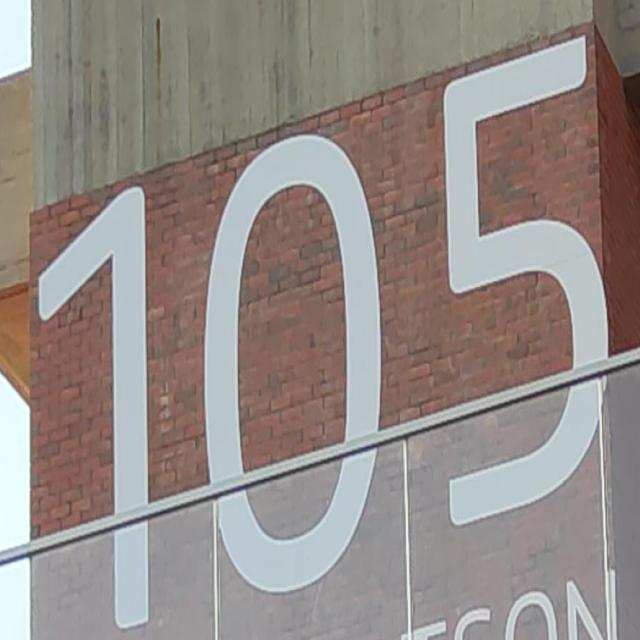character: (200, 126, 387, 600), (440, 29, 612, 534), (36, 174, 152, 635)
